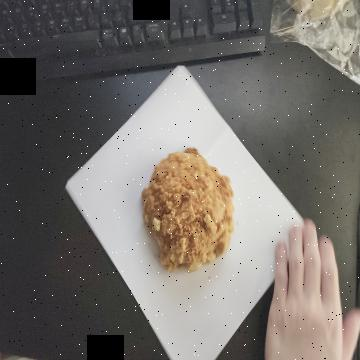soboru_bread: (141, 146, 236, 278)
